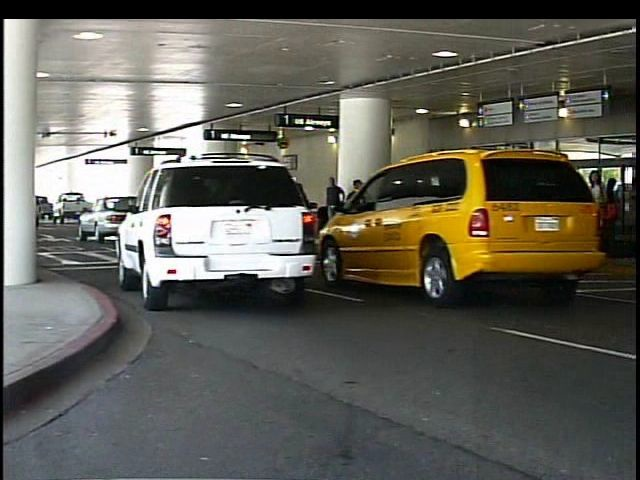person: (507, 167, 536, 261), (324, 172, 350, 244), (349, 178, 372, 256), (602, 176, 622, 245)
